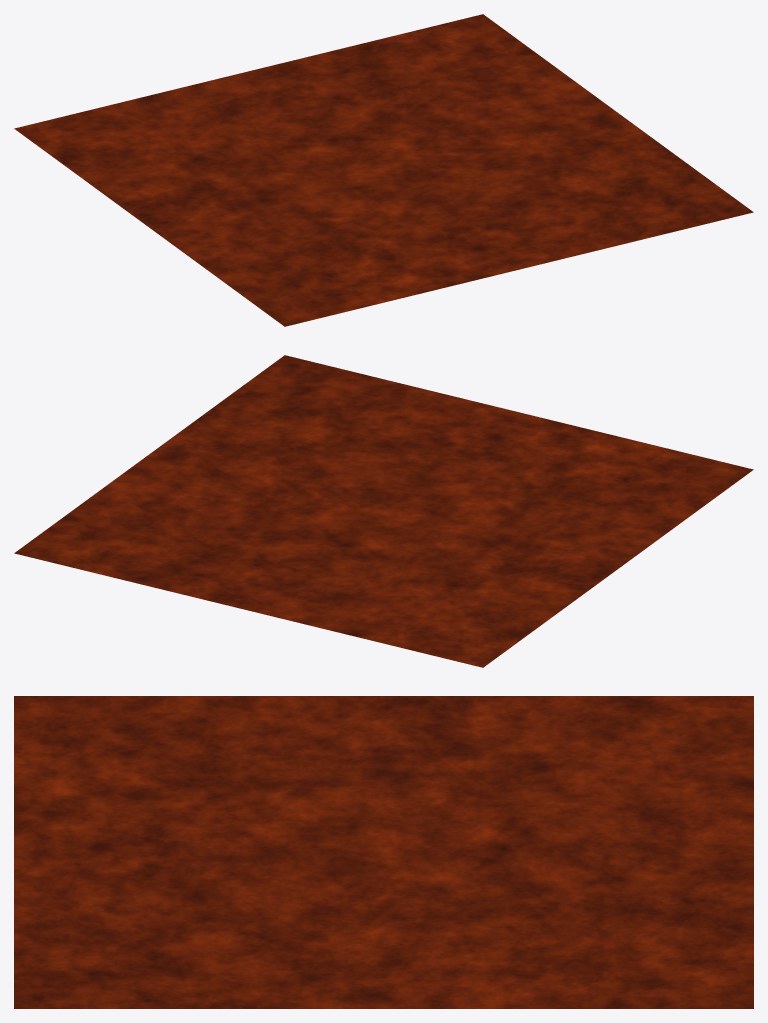
The model's file is forest floor3.glb.
3 renders of one model, top to bottom at view 1: azimuth 30°, elevation 25°; view 2: azimuth 150°, elevation 25°; view 3: azimuth 270°, elevation 25°, orthographic. The views are drawn at different scales.
Parts seen in each view (by area): view 1: wall; view 2: wall; view 3: wall.
Boxes of the visible parts, <box> form: wall: <box>14,14,753,326</box>; wall: <box>14,355,753,667</box>; wall: <box>14,696,753,1008</box>.
Bounding box in the file's own units: 2 × 0 × 2.
Materials: 1 (1 with a texture image).
